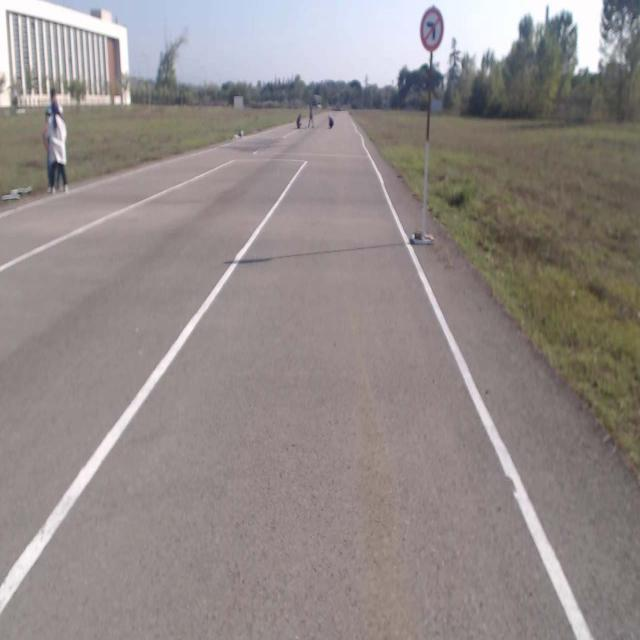soladonulmez: (420, 6, 442, 50)
